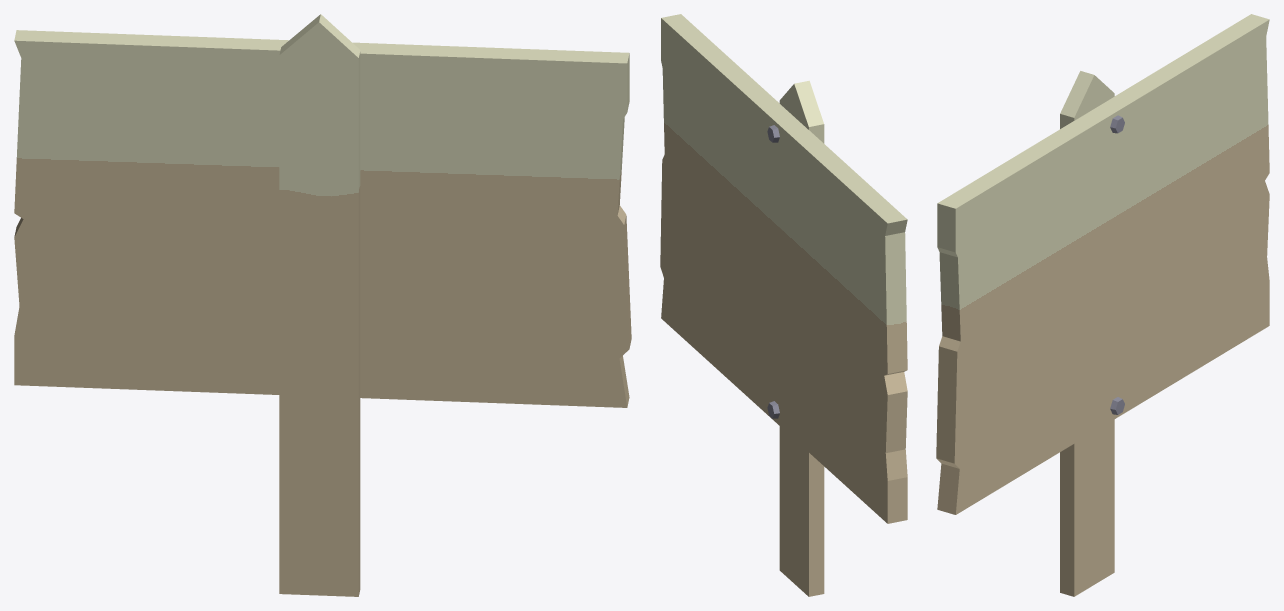
Rendered from cartelito.fbx.
3 views of the same model, side by side, from view 1: azimuth 30°, elevation 25°; view 2: azimuth 150°, elevation 25°; view 3: azimuth 270°, elevation 25° (orthographic). The views are drawn at different scales.
Visible parts, largest first — view 1: cartelito; view 2: cartelito; view 3: cartelito.
Part boxes in pixels (<box>): cartelito: <box>14,14,631,596</box>; cartelito: <box>660,14,907,596</box>; cartelito: <box>936,14,1269,596</box>.
Size of the model in its own units: 104 by 126 by 74.78.
